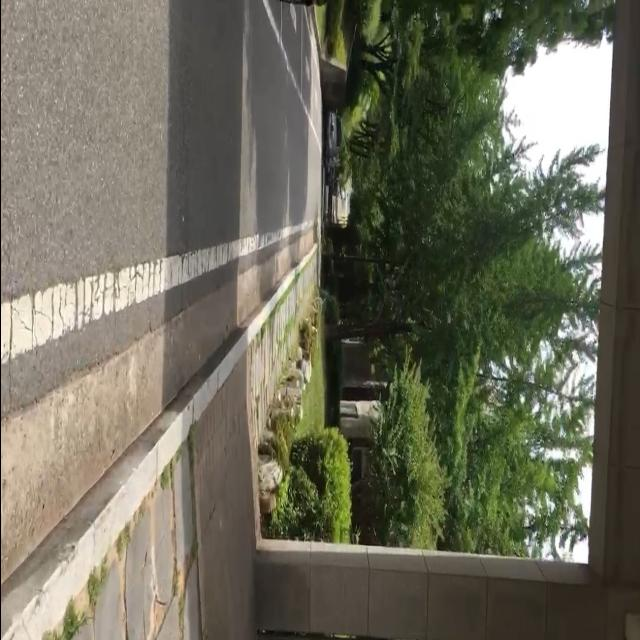obstacle: (323, 111, 349, 199), (280, 0, 326, 10)
sidewalk: (0, 411, 199, 640), (249, 264, 316, 431)
